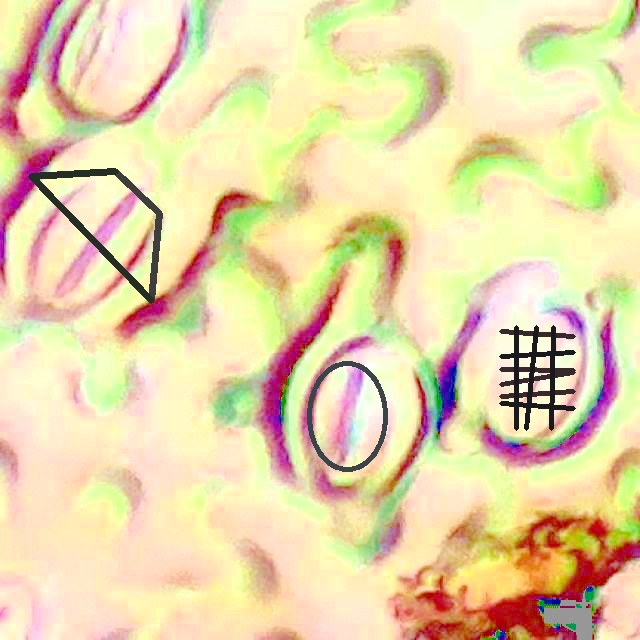close: (499, 325, 575, 430)
open: (28, 168, 162, 303), (306, 360, 388, 471)
